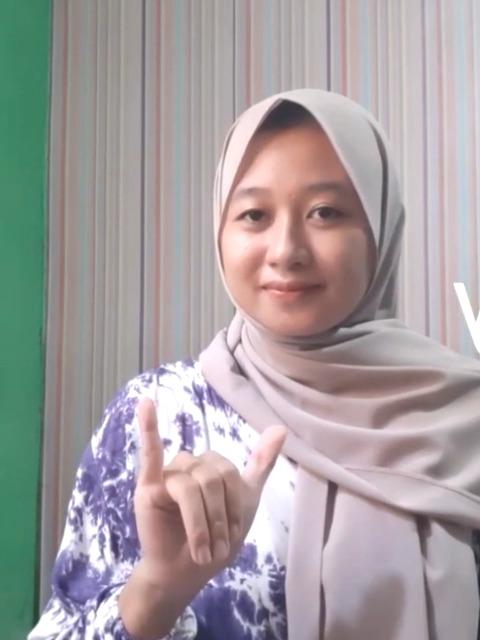Y: (112, 397, 294, 601)
